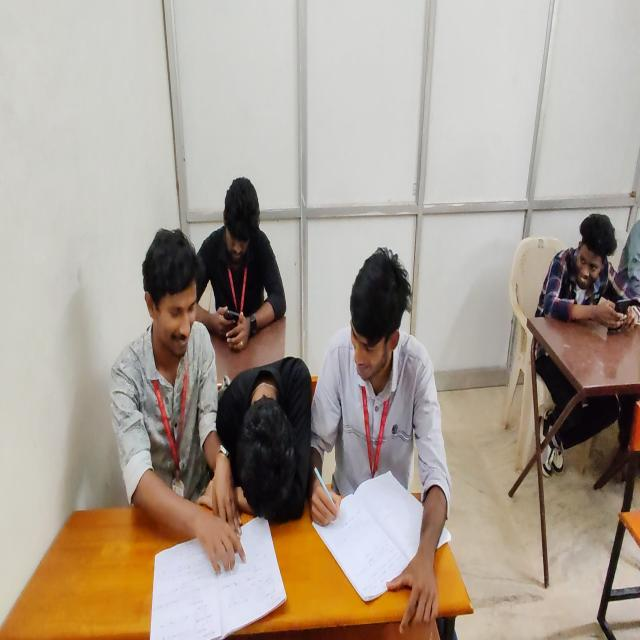sleeping: (212, 347, 321, 530)
turning: (305, 237, 463, 636), (98, 221, 221, 592)
using_mobile: (189, 172, 294, 357), (524, 197, 640, 345)
